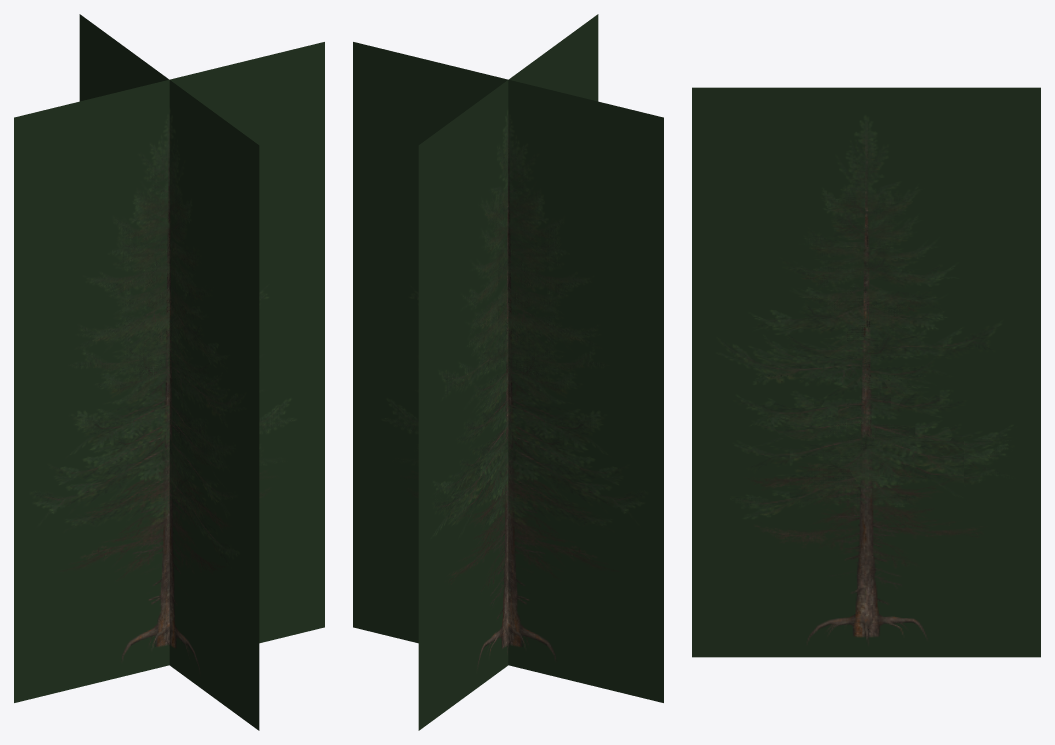
Rendered from Tree5_LOD4.fbx.
The picture shows the model from 3 angles, left to right: view 1: azimuth 30°, elevation 25°; view 2: azimuth 150°, elevation 25°; view 3: azimuth 270°, elevation 25°; orthographic projection. The views are drawn at different scales.
Visible parts, largest first — view 1: polySurface3186; view 2: polySurface3186; view 3: polySurface3186.
Boxes of the visible parts, x1,y1,x2,y2 form: polySurface3186: (14,14,324,730); polySurface3186: (353,14,663,730); polySurface3186: (692,87,1040,657).
Bounding box in the file's own units: 578 × 1040 × 578.
